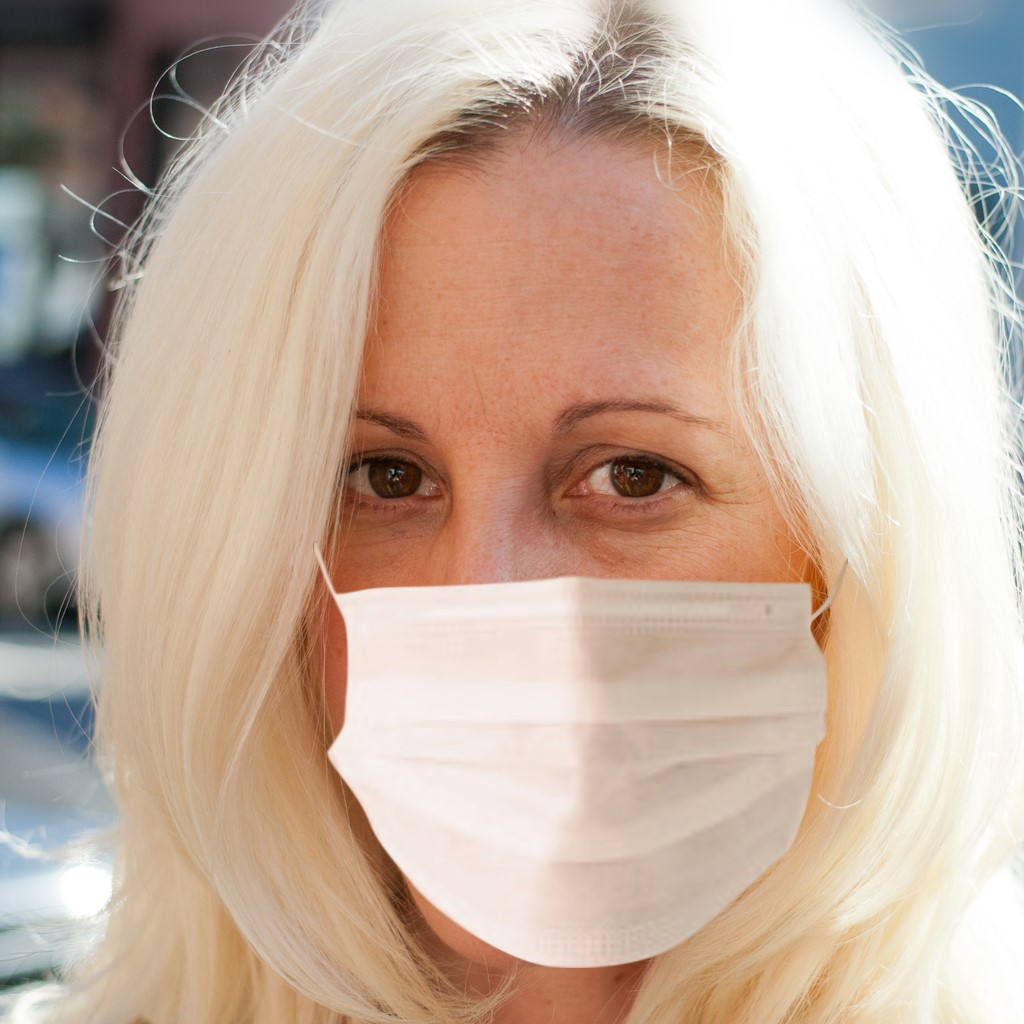con_mascara: (199, 43, 894, 985)
